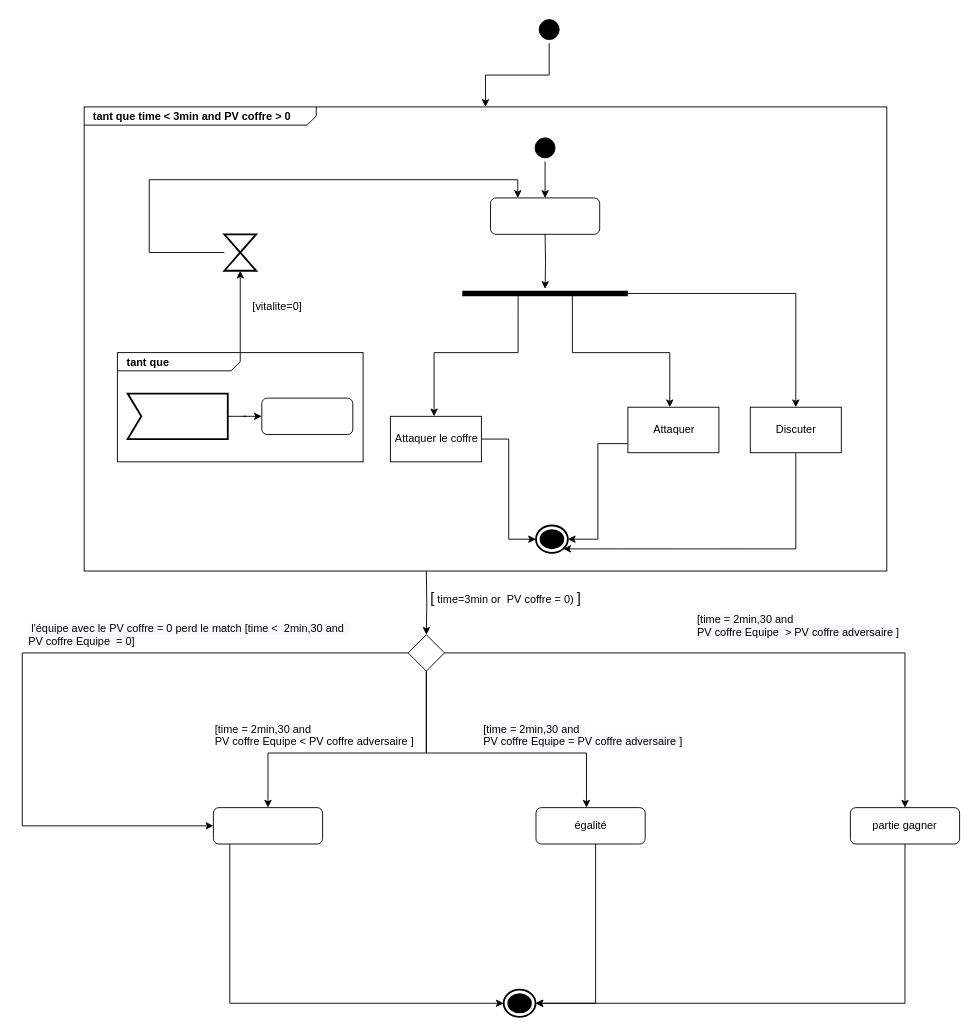
This 976x1034 diagram has some shape labels left out. Each missing label, with the centre of its shape:
baisse de vitalité: (307,416)
commencer le jeu: (545,215)
partie perdue: (267,825)
reçois attaque: (177,416)
